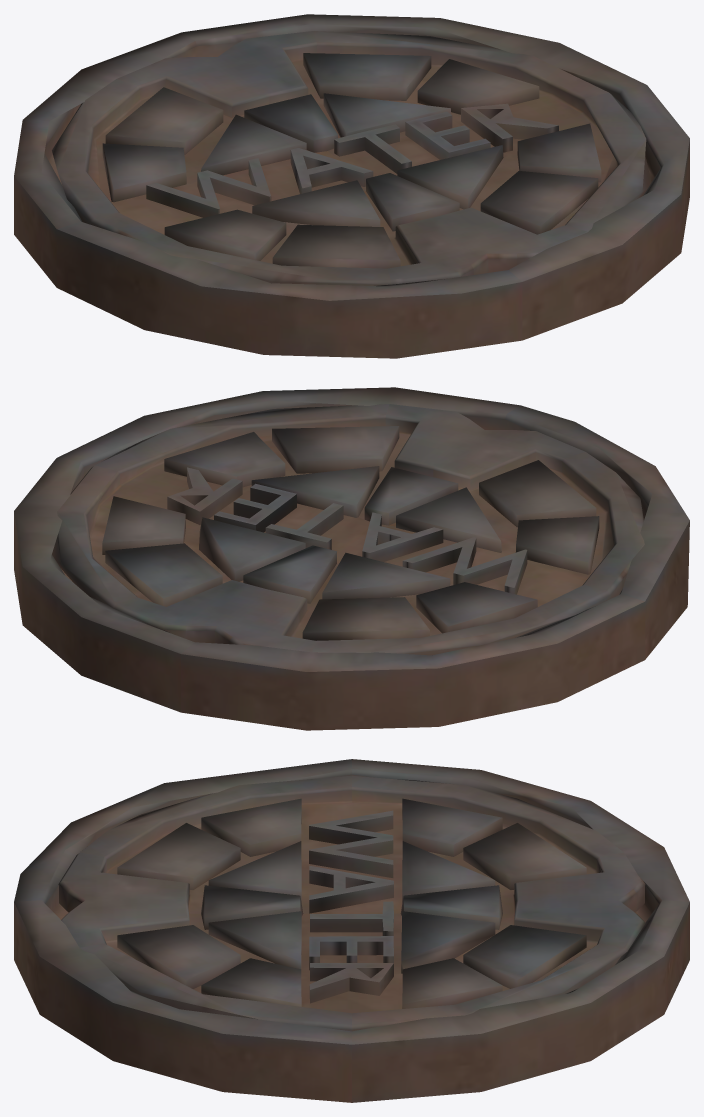
The model's file is water_manhole_cover.glb.
3 renders of one model, top to bottom at view 1: azimuth 30°, elevation 25°; view 2: azimuth 150°, elevation 25°; view 3: azimuth 270°, elevation 25°, orthographic.
Visible parts, largest first — view 1: water_manhole_cover_frame; view 2: water_manhole_cover_frame; view 3: water_manhole_cover_frame.
Boxes of the visible parts, <box> form: water_manhole_cover_frame: <box>14,14,689,358</box>; water_manhole_cover_frame: <box>14,387,689,730</box>; water_manhole_cover_frame: <box>14,759,689,1102</box>.
Bounding box in the file's own units: 0.6908 × 0.0676 × 0.6908.
Materials: 1 (1 with a texture image).
